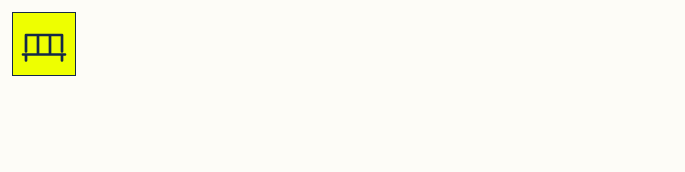
Test case: opens the engenharia-civil discovery with the keyboard and closes it on click
Expected: the text "treliça" is not shown
Press Tab
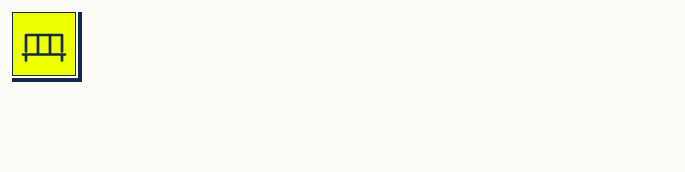
Press Enter
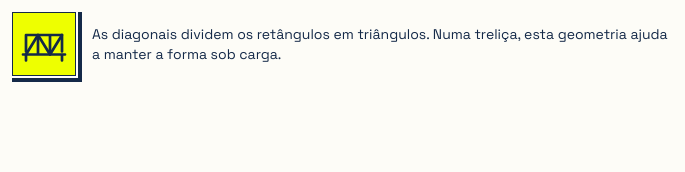
Expected: the text "treliça" is shown, [92,25,668,63]
Click the button named "Descobrir o símbolo de Engenharia Civil": [44, 44] box [12,12,76,76]
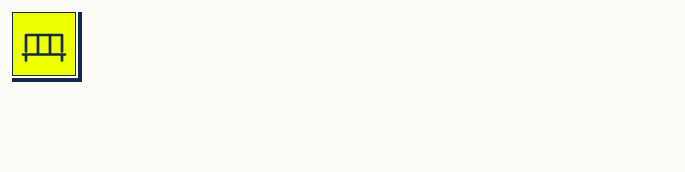
Expected: the text "treliça" is gone
